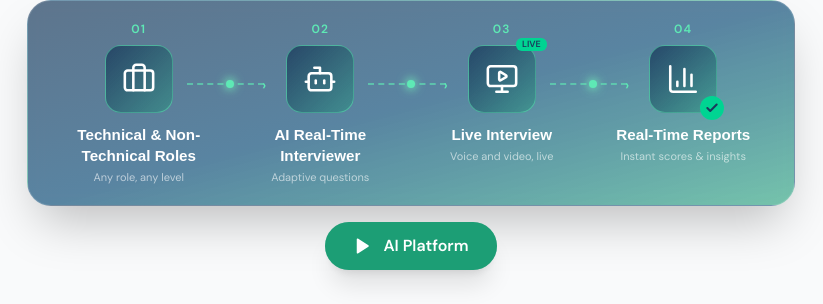
Test case: IntroPlayer (Play button) › a stale end event from a stopped run does not finish a new run
Step 1. Click the button with aria-label "play introduction" → [411, 246], box top-left (326, 222), bottom-right (497, 270)
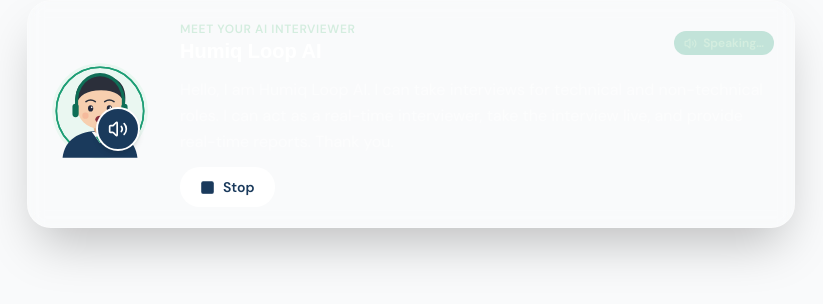
Step 2. Click the button "Stop" → [227, 187], box top-left (180, 167), bottom-right (275, 207)
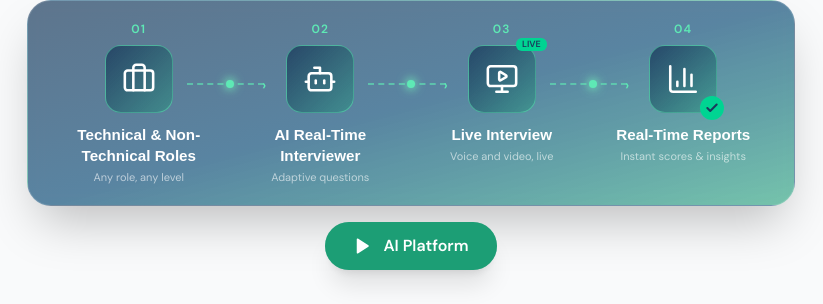
Step 3. Click the button with aria-label "play introduction" → [411, 246], box top-left (326, 222), bottom-right (497, 270)
Wait 5000 ms
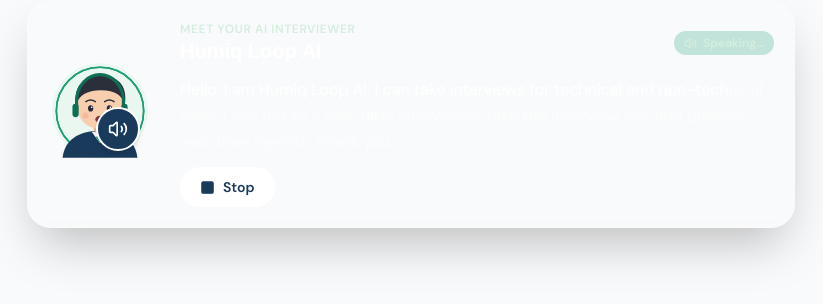
Expected: the text "Speaking…" is shown, top-left (674, 31), bottom-right (774, 55)
